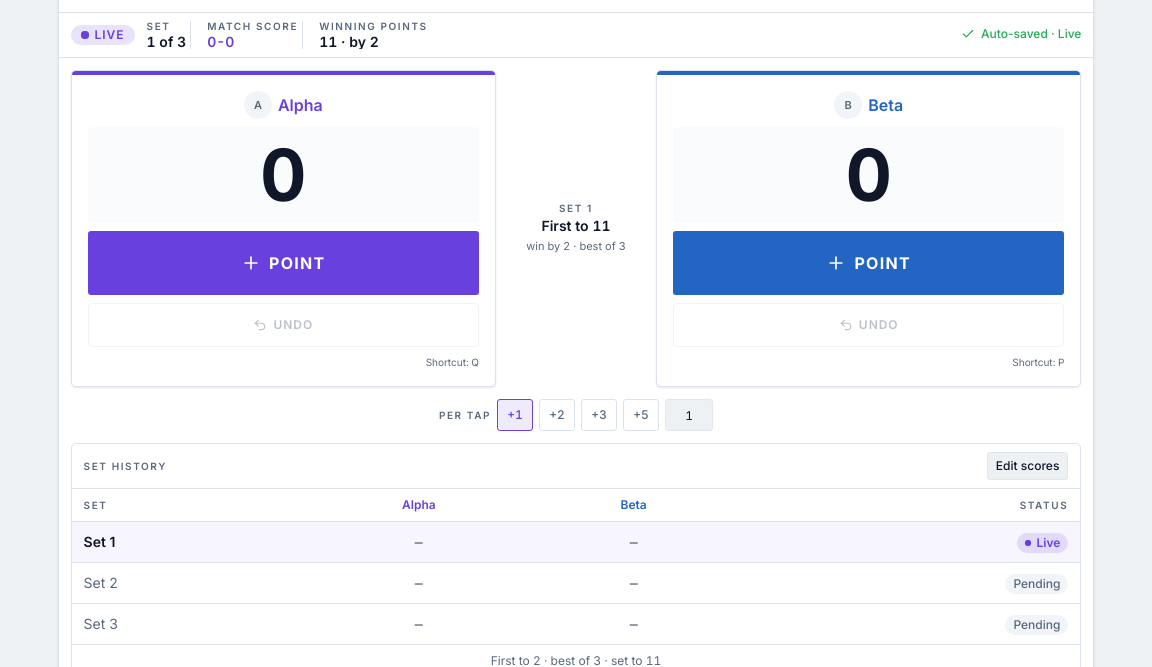
Test: MatchConsolePage › a paper result is typed once the match is live, and is not pushed per keystroke
What coordinates should you click on to do the following:
click the button with test id "edit-scores"
I would click on:
 (1028, 466)
Its box is [987,452,1068,480].
(page scrolled)
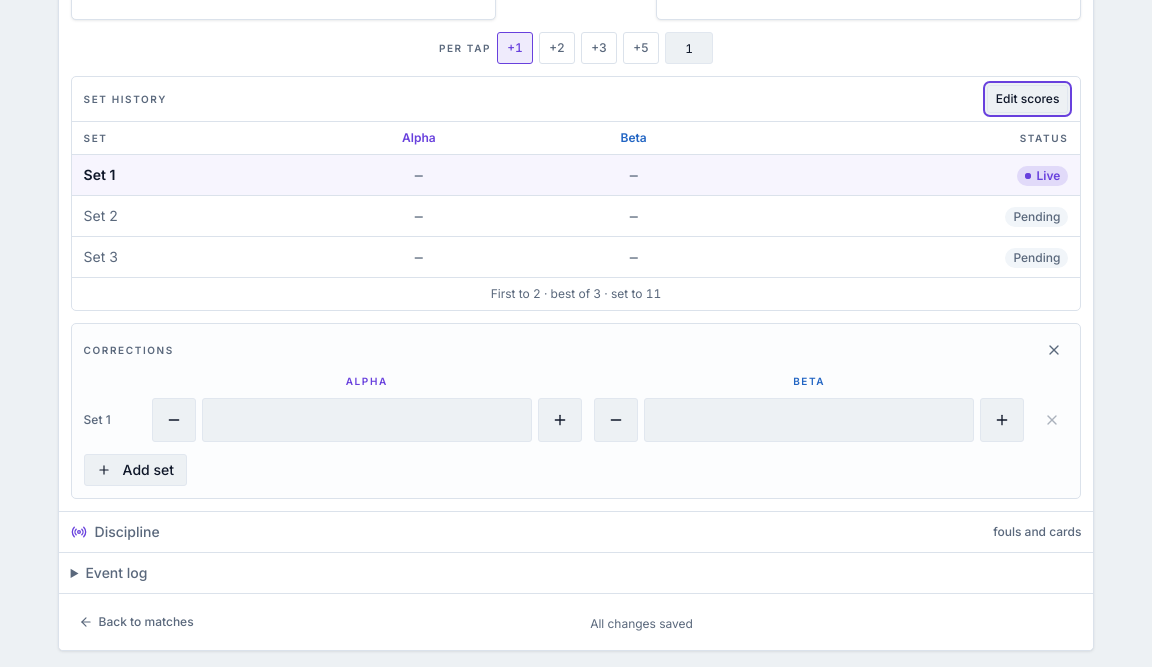
What coordinates should you click on to do the following:
click the button with test id "set-0-home-plus"
I would click on:
 (560, 420)
Its box is [538,398,582,442].
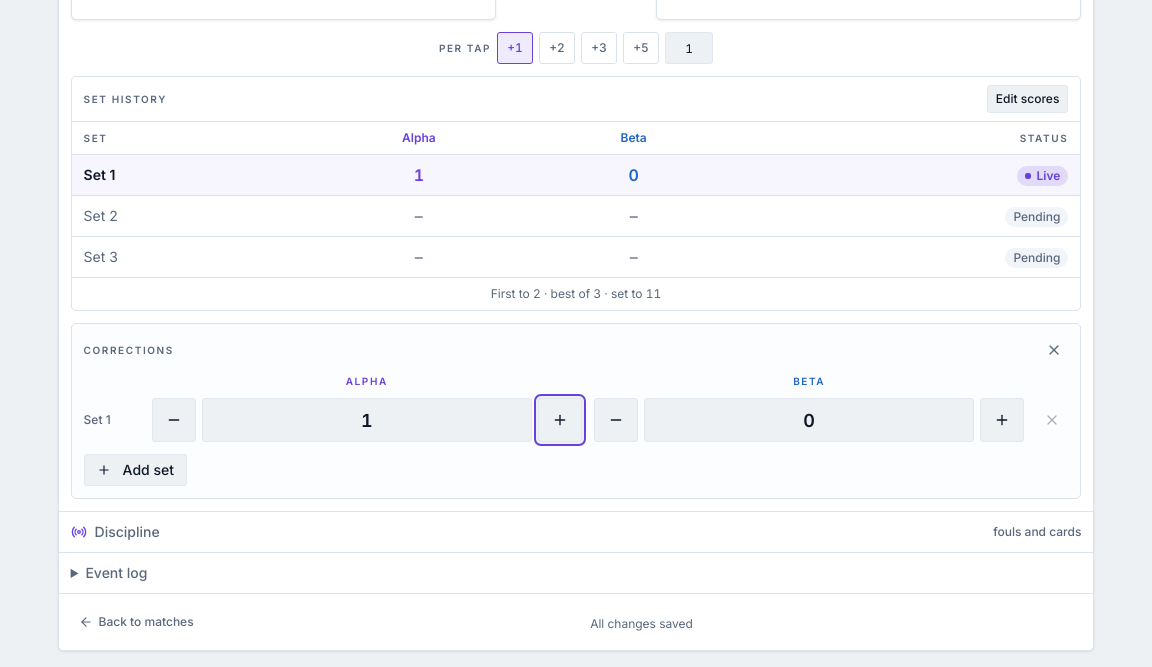
Now the field named "Set 1 Alpha" holds "1", box [202,398,532,442]
